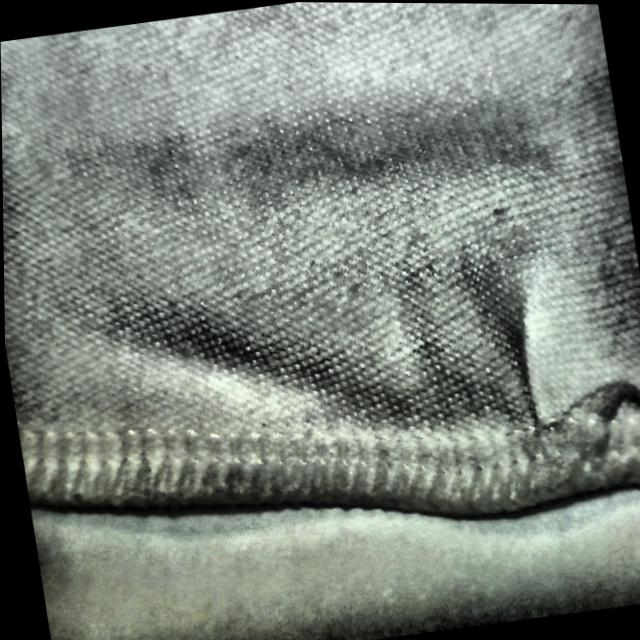seam: (472, 307, 640, 507)
